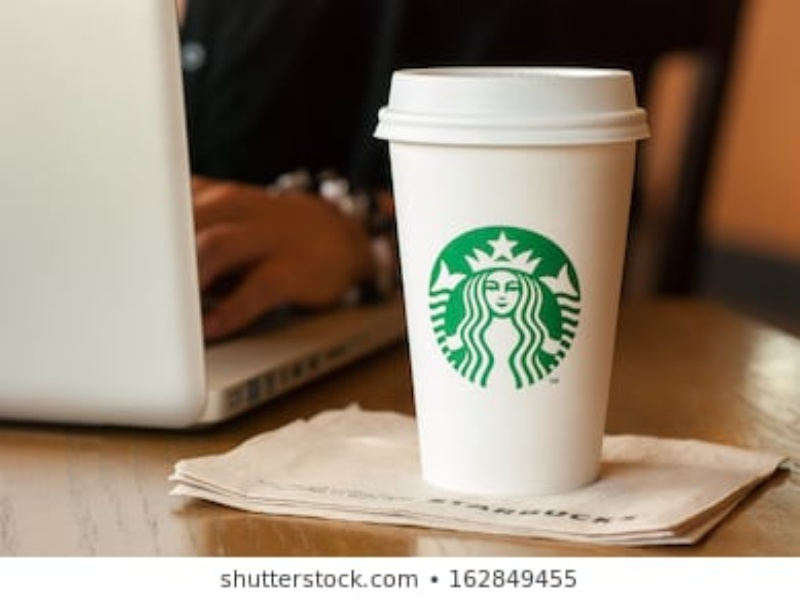coffee-lid: (371, 63, 657, 147)
